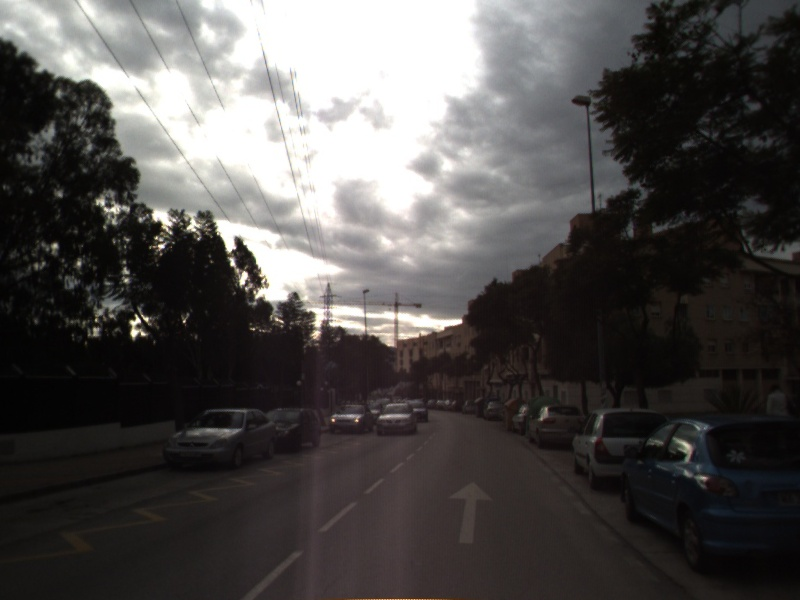STRAIGHT: (446, 480, 496, 545)
